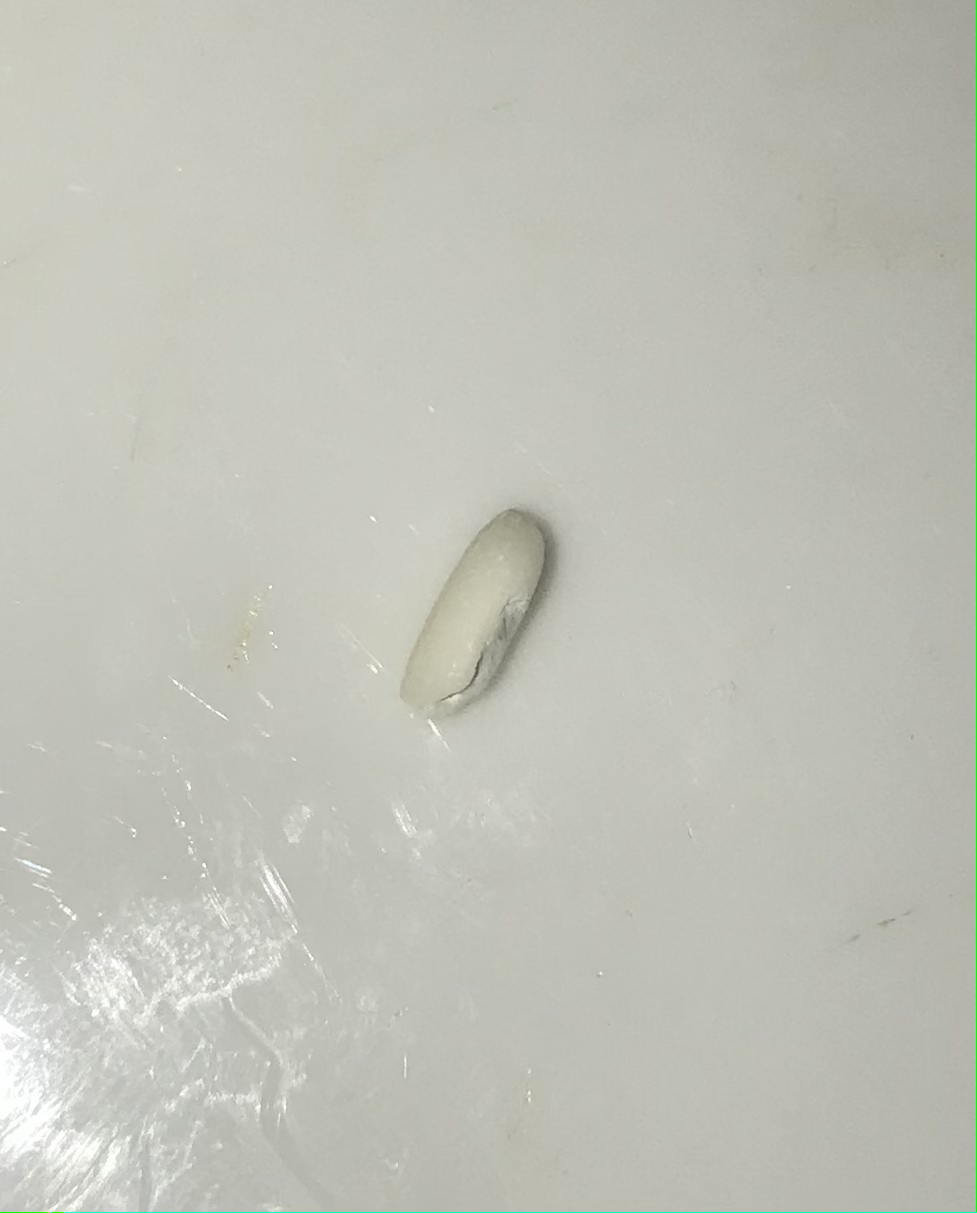Gao Nep Sap: (400, 491, 568, 745)
